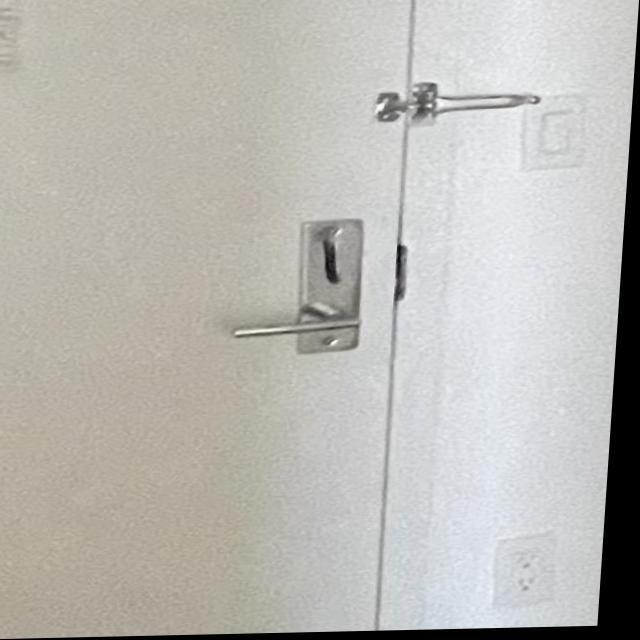door_handle: (222, 301, 391, 355)
